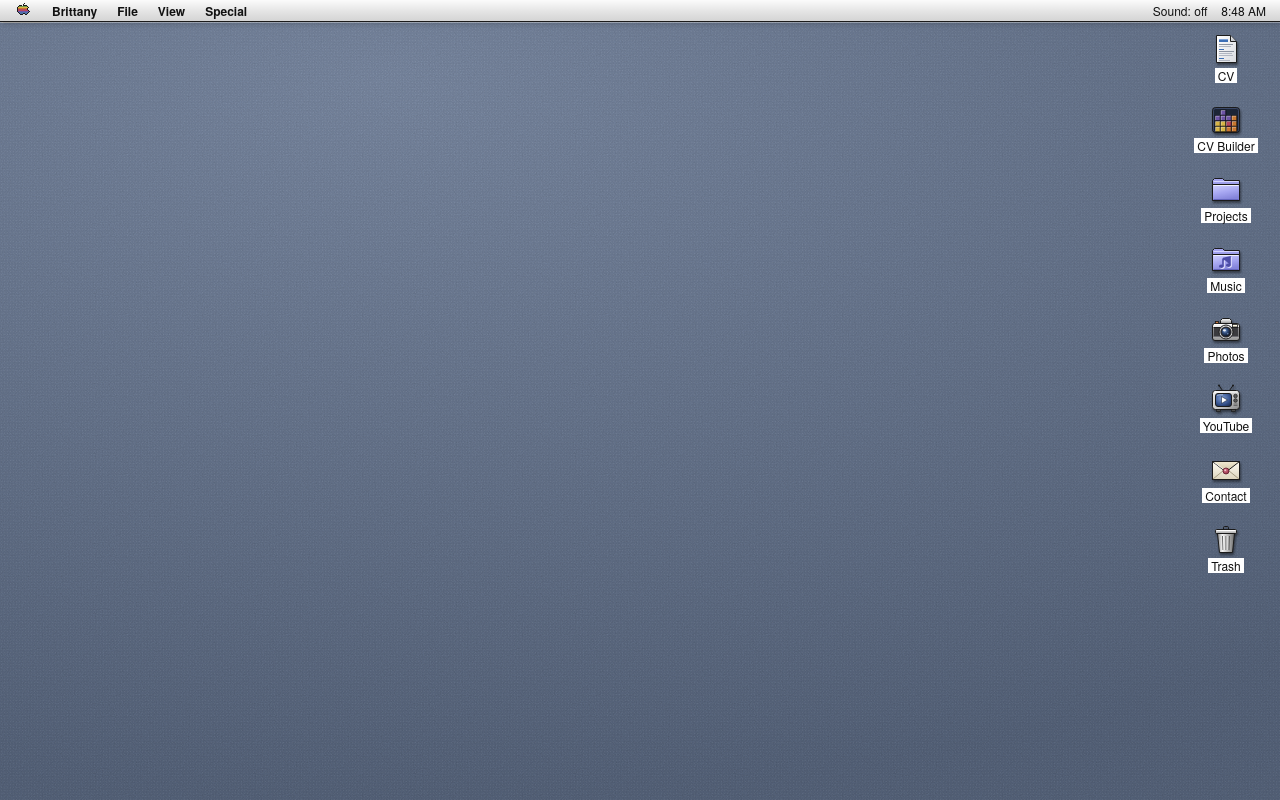
Test: desktop shell › Escape closes the alert first, then the menu that is still open behind it
The image size is (1280, 800).
Click the button "File" at (128, 10), box [107,0,148,21]
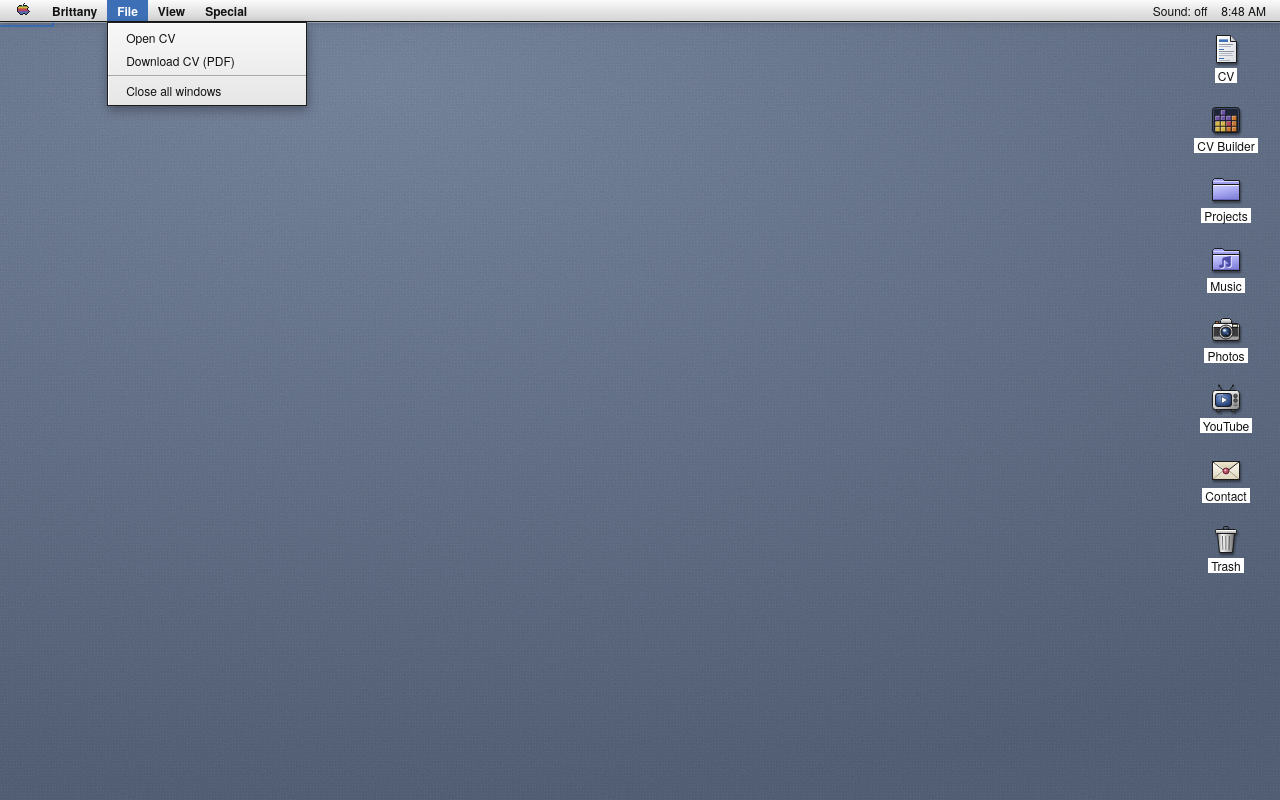
Now the button "File" is expanded, box [107,0,148,21]
Press Enter
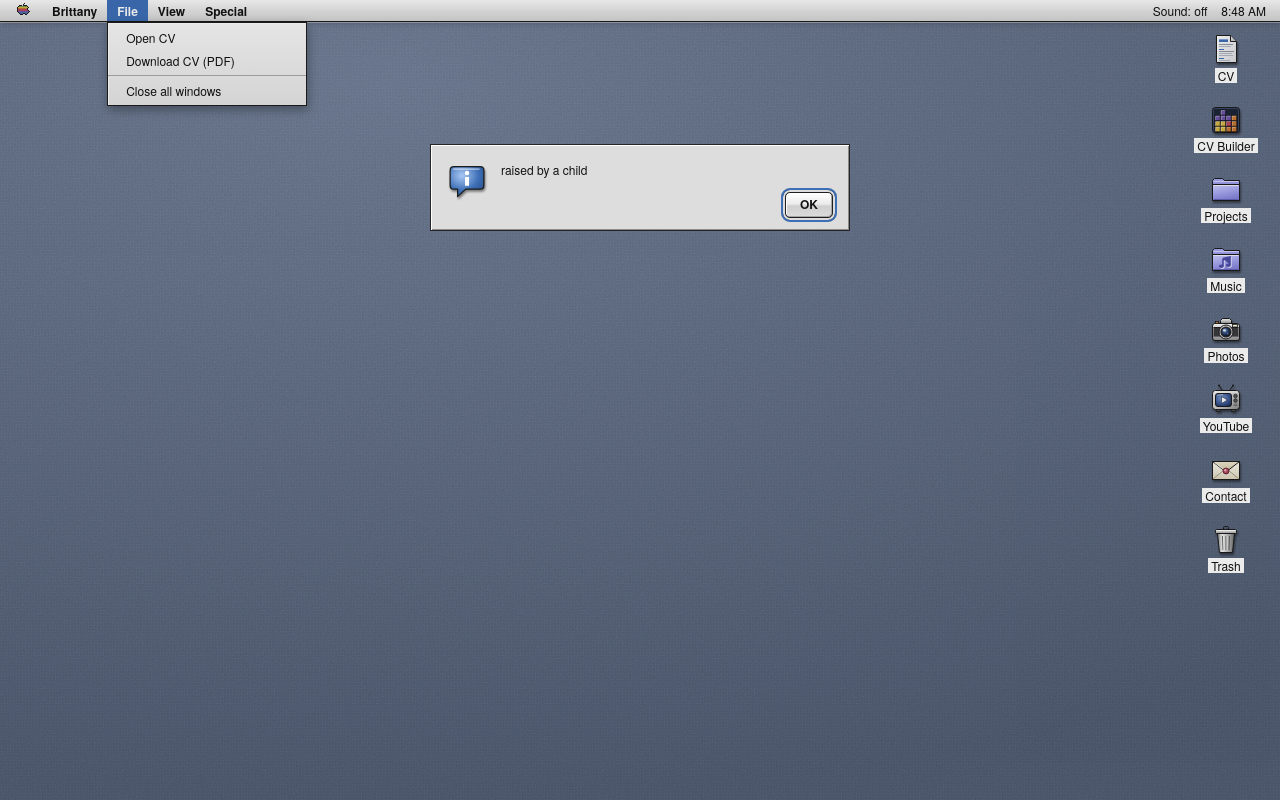
Now the button "File" is expanded, box [107,0,148,21]
Now the dialog is shown, box [430,144,850,231]
Press Escape
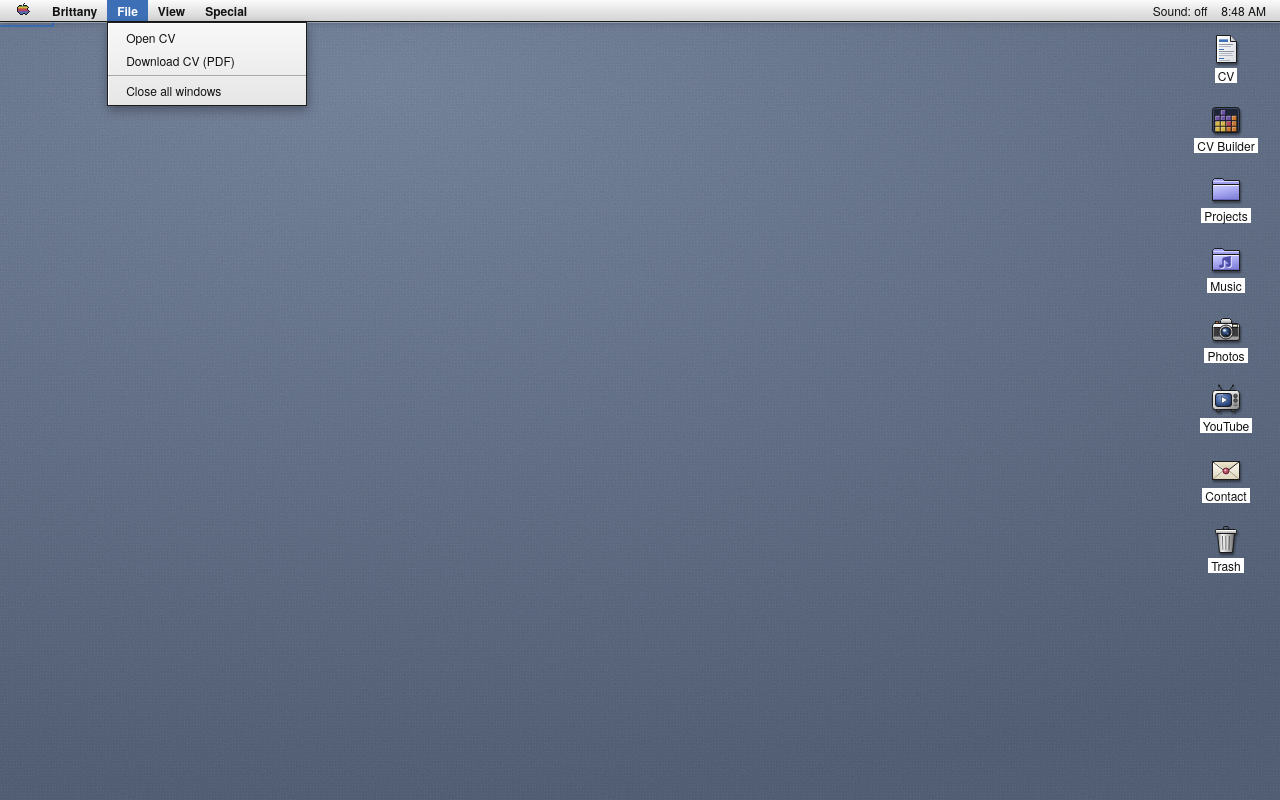
Now the button "File" is expanded, box [107,0,148,21]
Now the dialog is gone
Press Escape
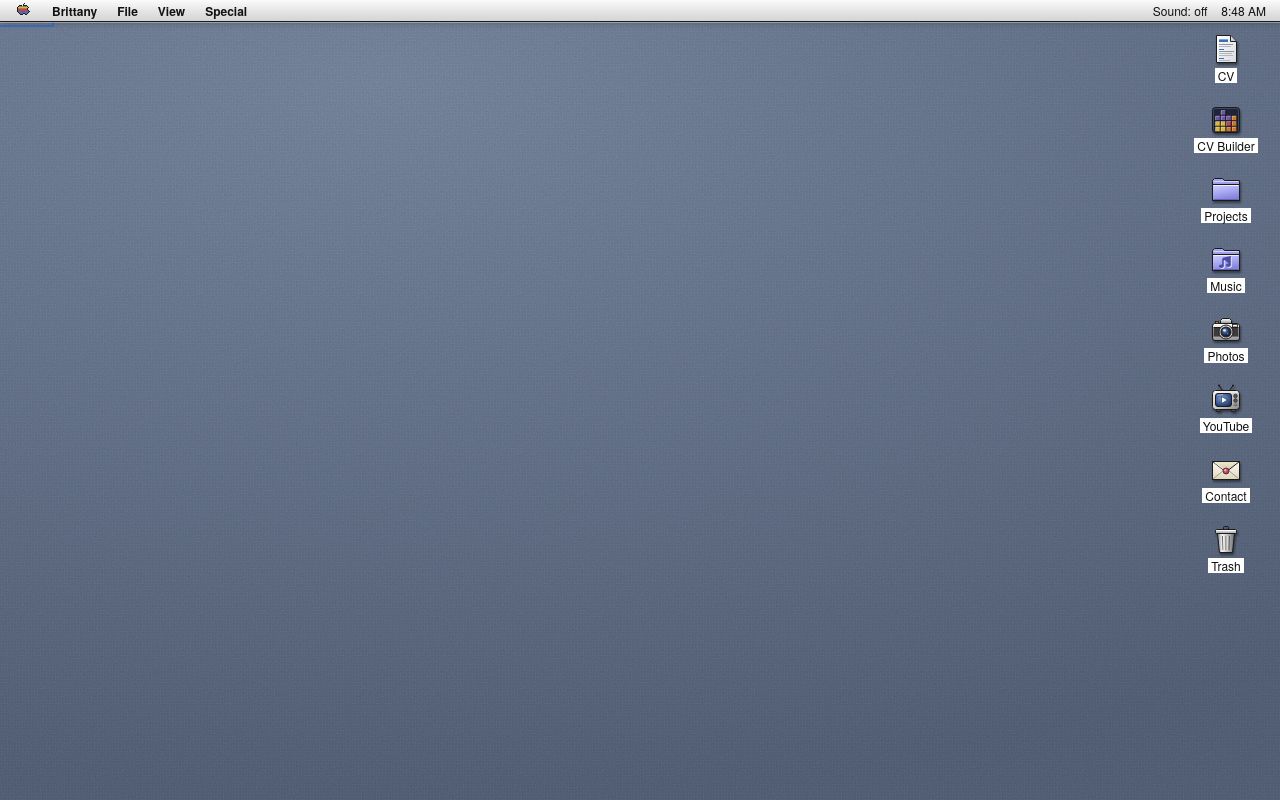
Now the button "File" is collapsed, box [107,0,148,21]
